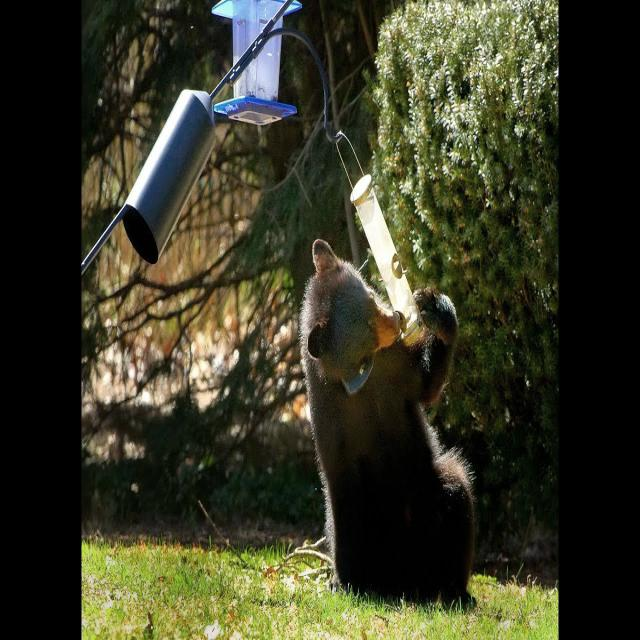bear: (300, 239, 475, 603)
